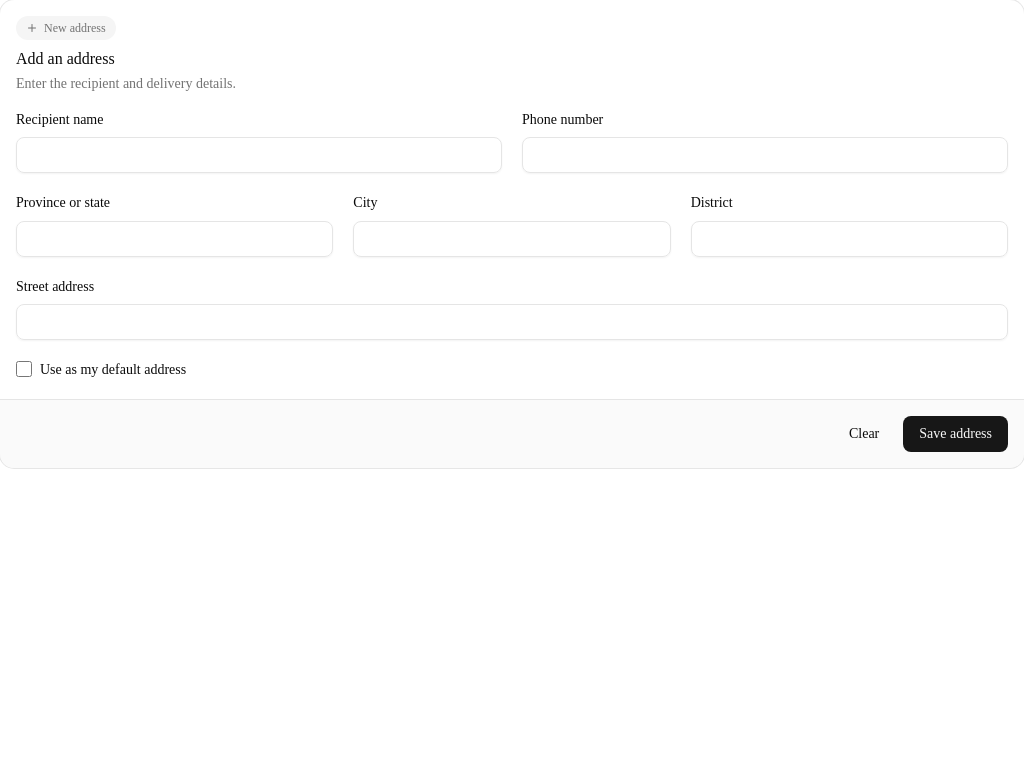
Test: AddressForm › shows localized validation errors and does not submit empty fields
Check: the text "New address" is shown, box 16,16 -> 116,40
Step 1. Click the button "Save address" → (956, 434), box 903,416 -> 1008,452
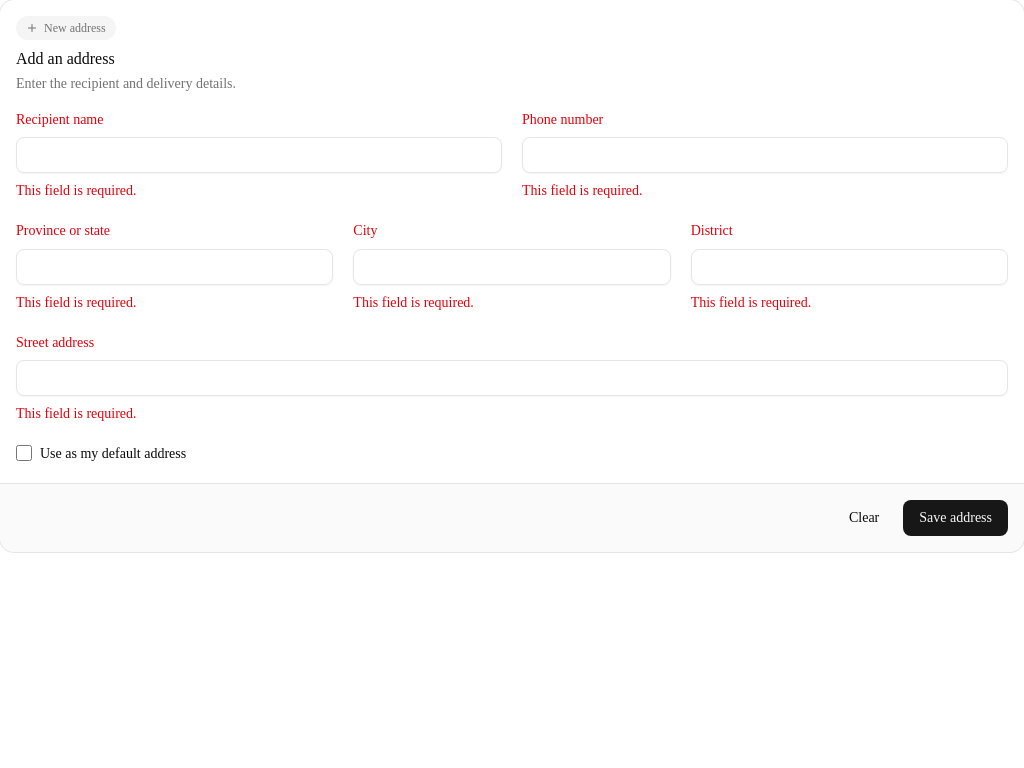
Check: the text "This field is required." is shown 6 times, box 16,183 -> 136,198; 522,183 -> 642,198; 16,294 -> 136,310; 353,294 -> 474,310; 691,294 -> 811,310; 16,406 -> 136,421
